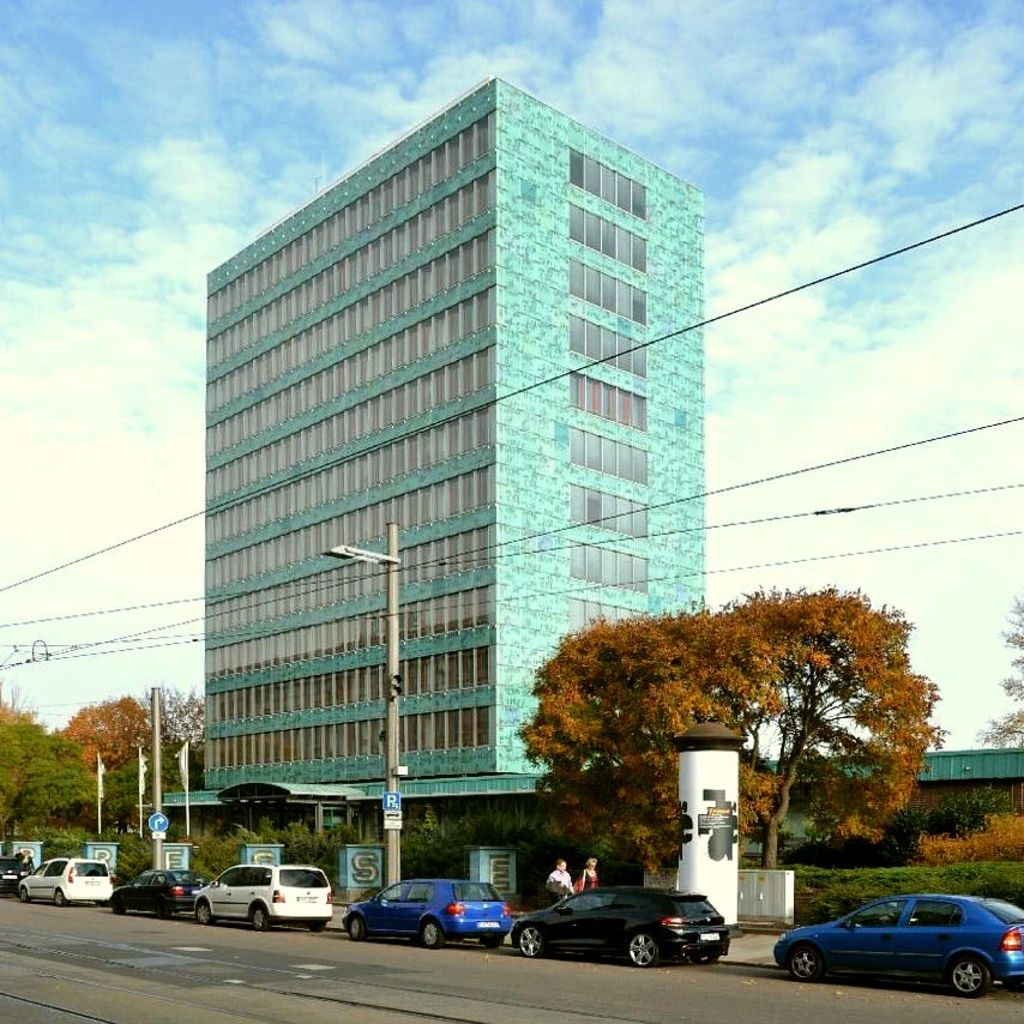Car: (769, 892, 1021, 997), (512, 888, 729, 967), (340, 881, 510, 946), (194, 865, 334, 934), (106, 870, 217, 920), (20, 860, 115, 910), (2, 858, 33, 898)
